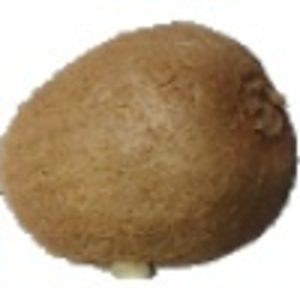kiwi: (1, 19, 300, 283)
